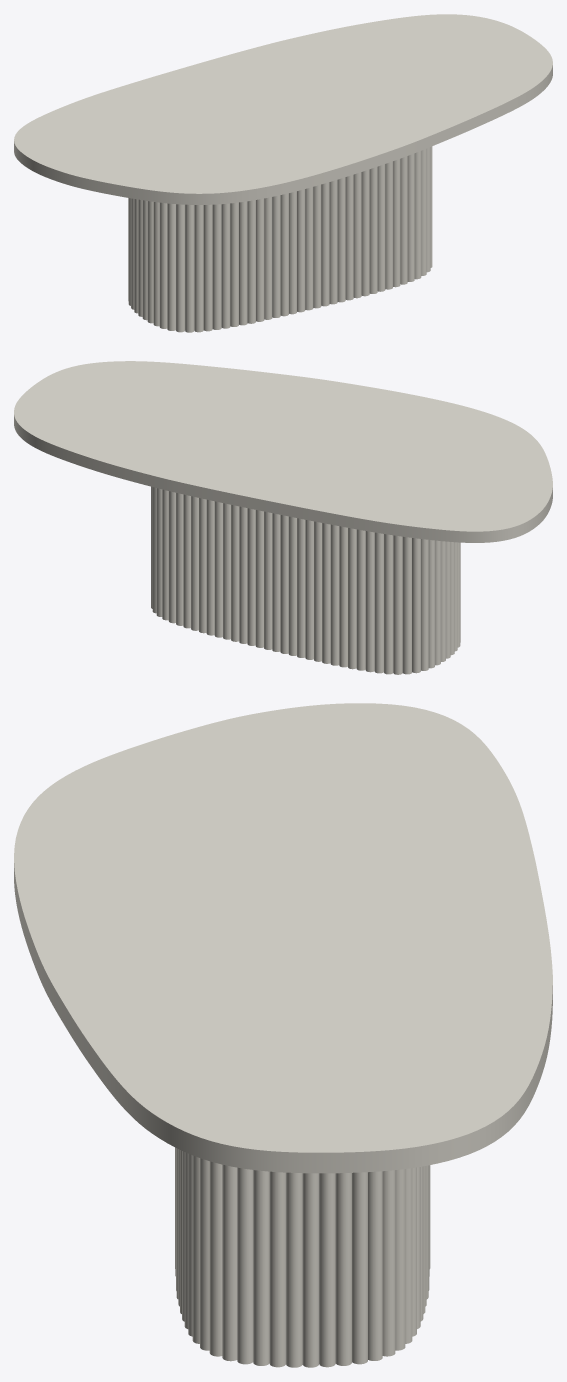
The model's file is pale_leaf2_standard_newtable.glb.
3 views of the same model, one above another, from view 1: azimuth 30°, elevation 25°; view 2: azimuth 150°, elevation 25°; view 3: azimuth 270°, elevation 25° (orthographic). The views are drawn at different scales.
Parts seen in each view (by area): view 1: standard_leaf2, newtable; view 2: standard_leaf2, newtable; view 3: standard_leaf2, newtable.
Part boxes in pixels (box(x1,y1,x2,y2)): standard_leaf2: box(14, 14, 552, 204); newtable: box(128, 146, 432, 332); standard_leaf2: box(14, 361, 552, 542); newtable: box(151, 486, 460, 674); standard_leaf2: box(14, 703, 552, 1173); newtable: box(175, 1147, 430, 1367).
Size of the model in its own units: 7.5 by 2.52 by 3.8.
Materials: 2 (2 with a texture image).
